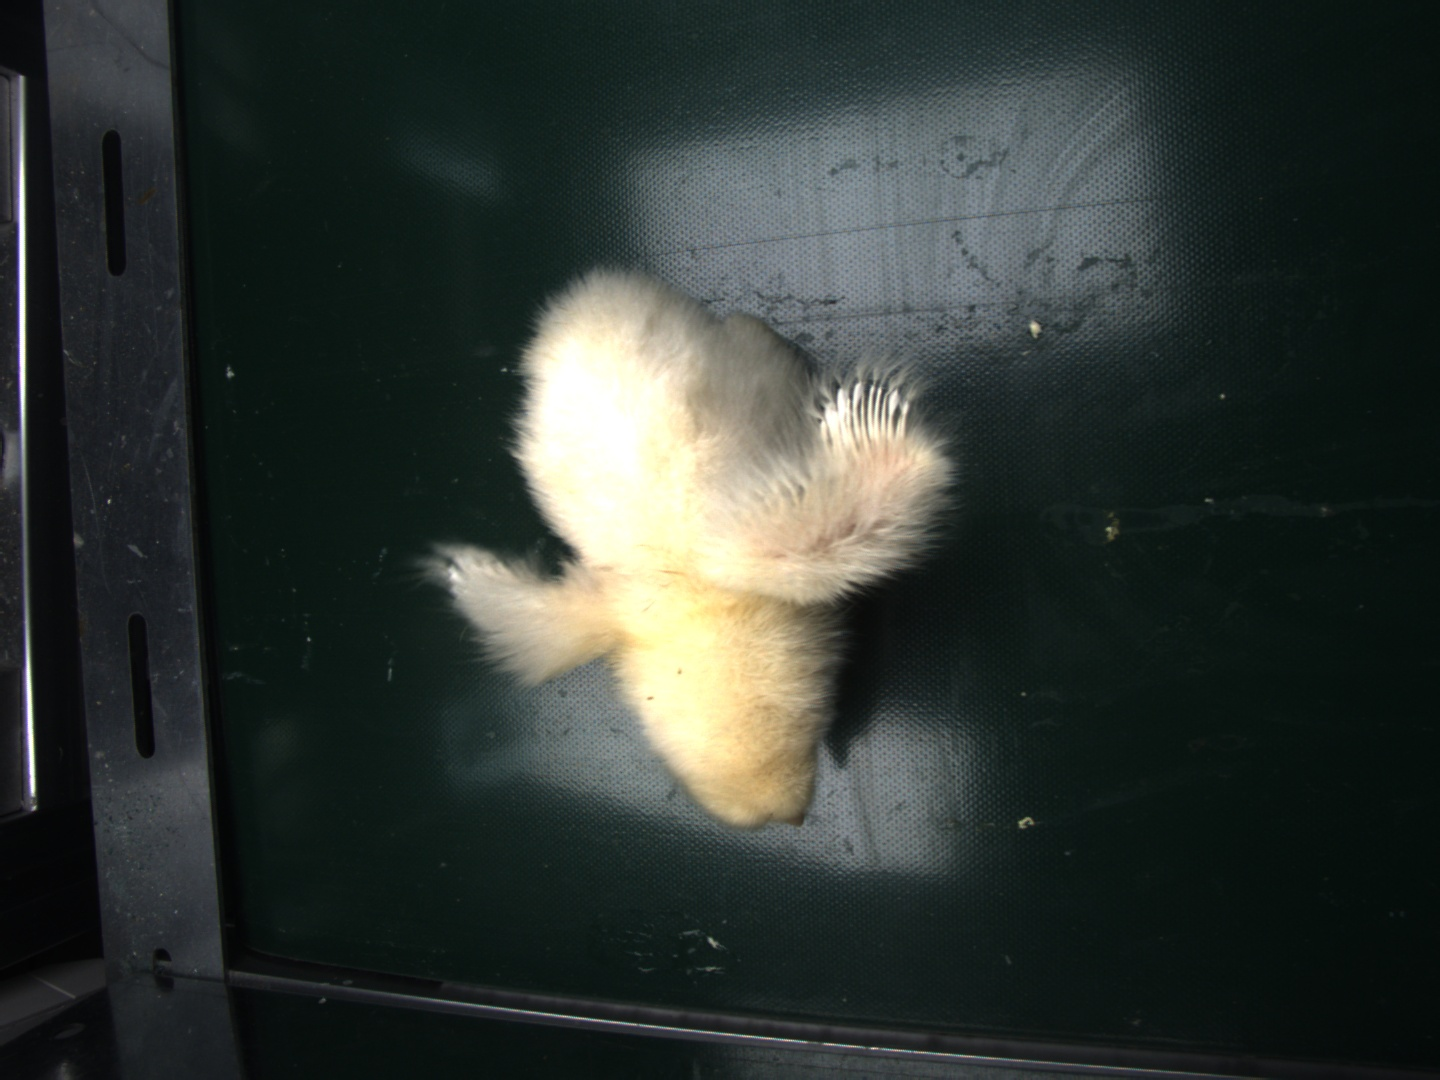male: (815, 379, 913, 444)
